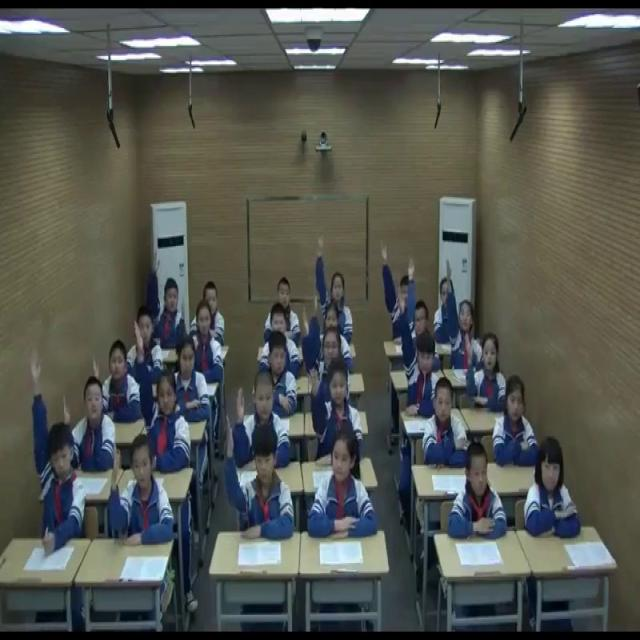focused: (306, 437, 379, 544), (523, 437, 586, 547), (448, 439, 510, 539), (424, 376, 474, 472), (168, 339, 211, 429), (495, 376, 538, 463), (185, 297, 225, 383), (264, 334, 298, 414), (130, 310, 164, 380), (265, 278, 299, 346), (266, 300, 299, 368), (433, 274, 459, 341), (200, 283, 226, 342)
raising_hand: (28, 346, 86, 564), (132, 318, 192, 480), (221, 413, 294, 546), (108, 437, 173, 543), (232, 360, 292, 470), (306, 359, 364, 464), (396, 294, 443, 420), (62, 374, 115, 472), (311, 234, 356, 342), (446, 257, 484, 371), (146, 250, 188, 346), (464, 326, 510, 413), (92, 343, 140, 426), (298, 306, 352, 378), (404, 258, 438, 363), (376, 243, 413, 332), (310, 302, 356, 365)
